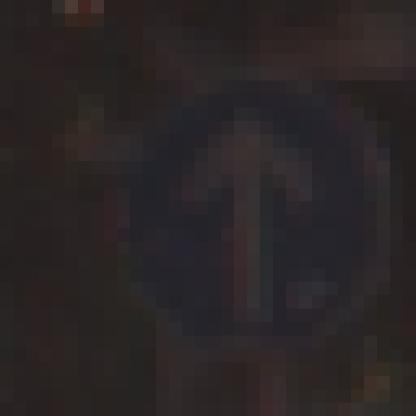AheadOnly: (79, 68, 339, 350)
